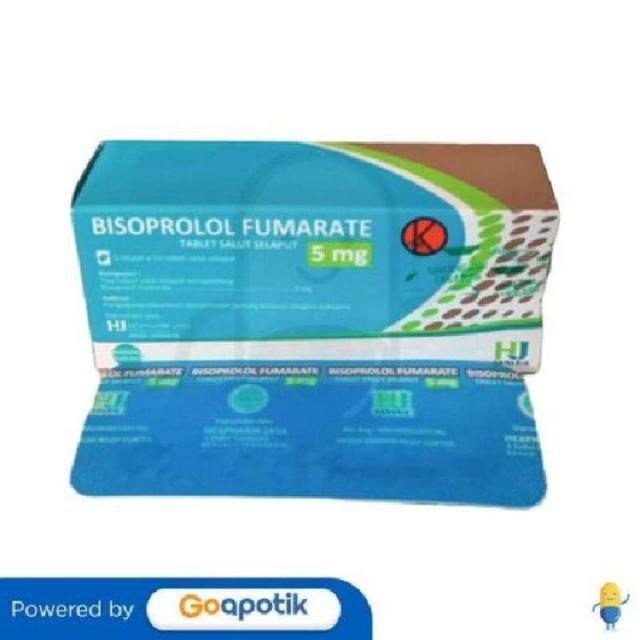drug-name: (91, 210, 379, 244)
